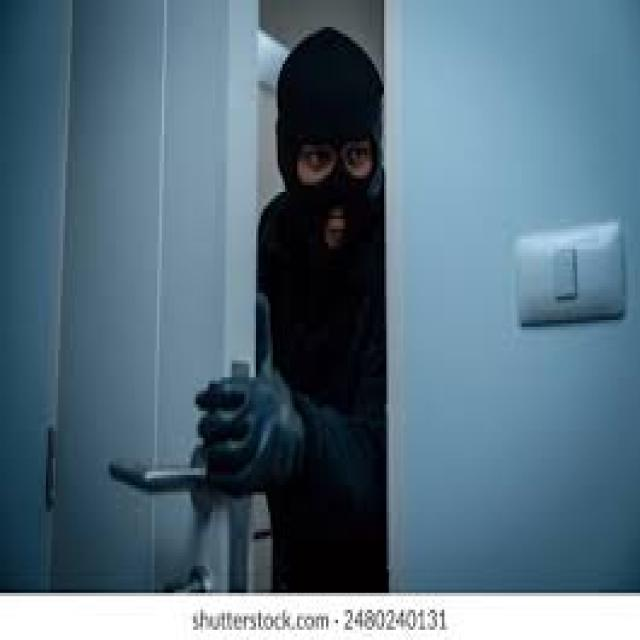person-with-mask: (77, 7, 438, 587)
